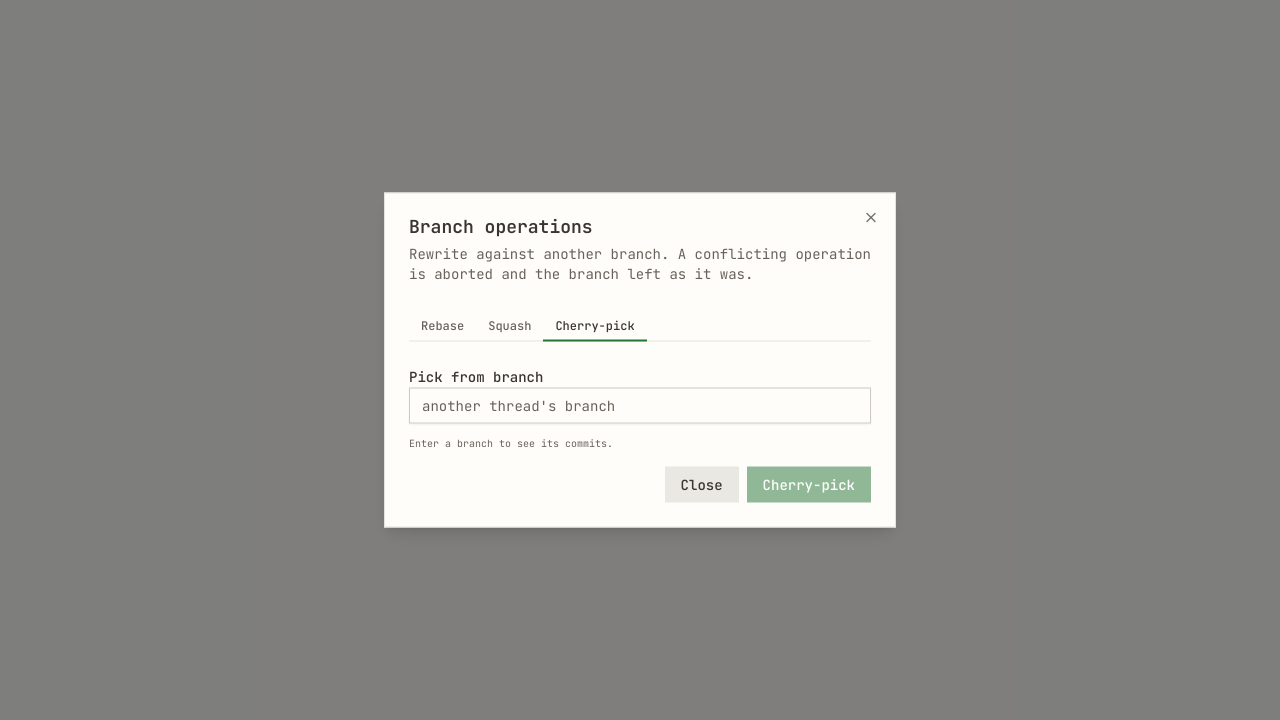
Scenario: GitOpsDialog while an agent works in the checkout › ignores conversations working in other checkouts
In the field labelled "Pick from branch": (640, 406) [409,388,871,424], type "feature"
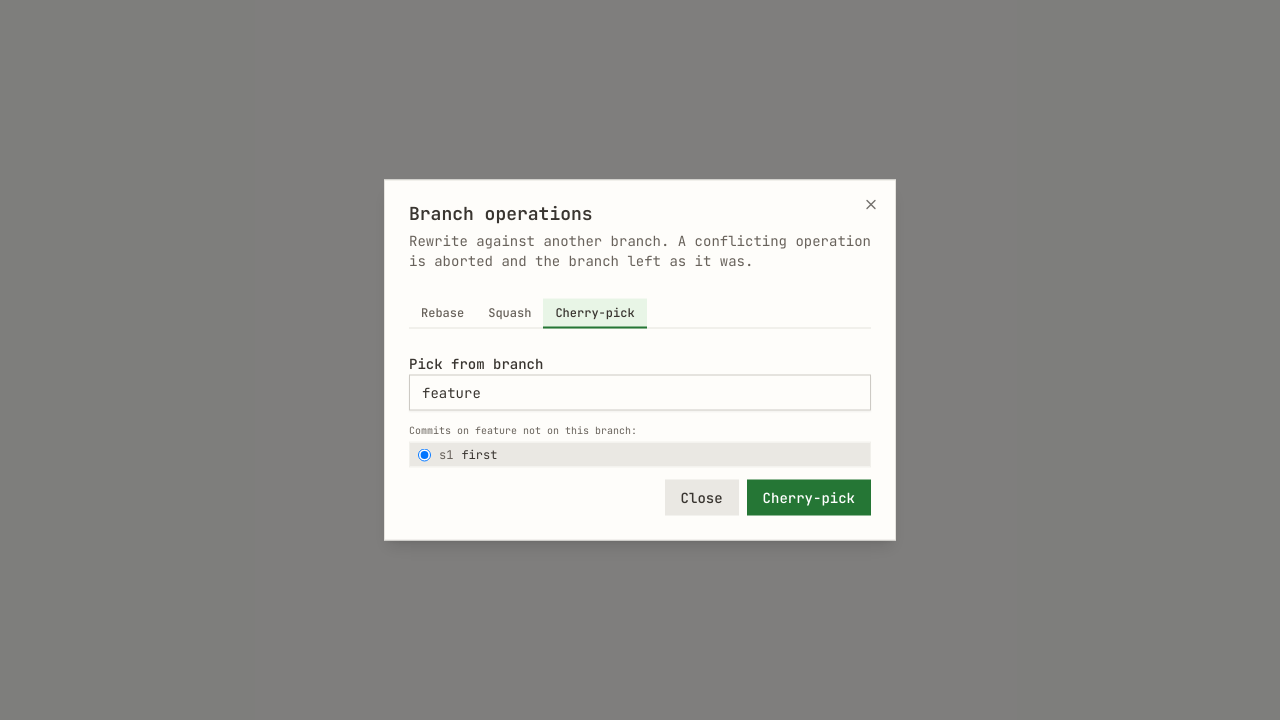
Result: the button "Cherry-pick" is enabled at [747,480,871,516]
